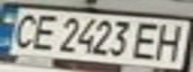2: (54, 14, 81, 54), (90, 16, 115, 56)
3: (109, 18, 139, 58)
4: (75, 15, 100, 56)
C: (3, 10, 45, 49)
E: (127, 19, 169, 62), (24, 11, 63, 53)
H: (148, 20, 193, 62)
